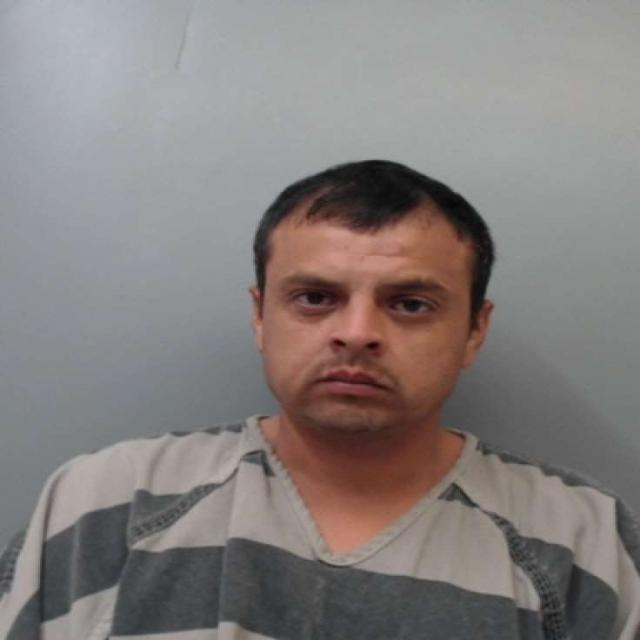mobile_phonerotation: (2, 157, 637, 638)
